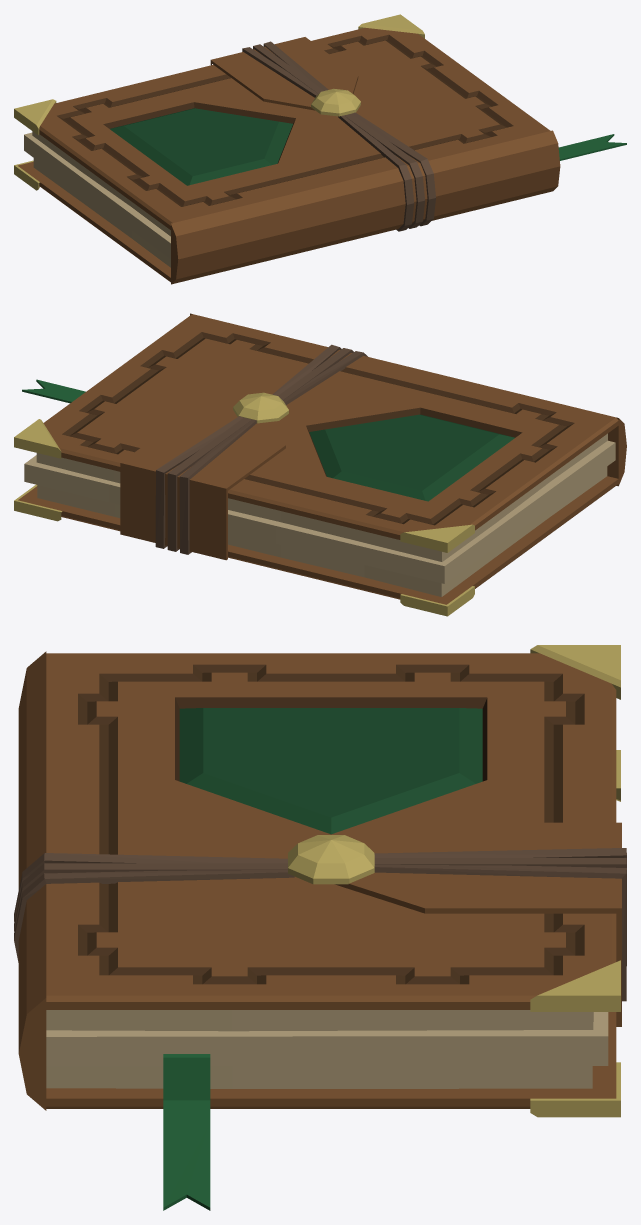
File: campaign-journal-18037d.glb
3 renders of one model, top to bottom at view 1: azimuth 30°, elevation 25°; view 2: azimuth 150°, elevation 25°; view 3: azimuth 270°, elevation 25°, orthographic. The views are drawn at different scales.
Parts seen in each view (by area): view 1: book, clasp; view 2: book, clasp; view 3: book, clasp.
Part boxes in pixels (x1=…): book: x1=14, y1=14, x2=626, y2=284; clasp: x1=311, y1=88, x2=360, y2=116; book: x1=14, y1=313, x2=626, y2=616; clasp: x1=233, y1=392, x2=288, y2=423; book: x1=14, y1=645, x2=626, y2=1210; clasp: x1=288, y1=835, x2=374, y2=884.
Size of the model in its own units: 0.2692 by 0.0419 by 0.157.
